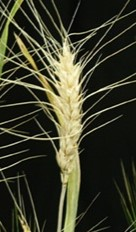Healthy Wheat: (45, 40, 92, 174)
